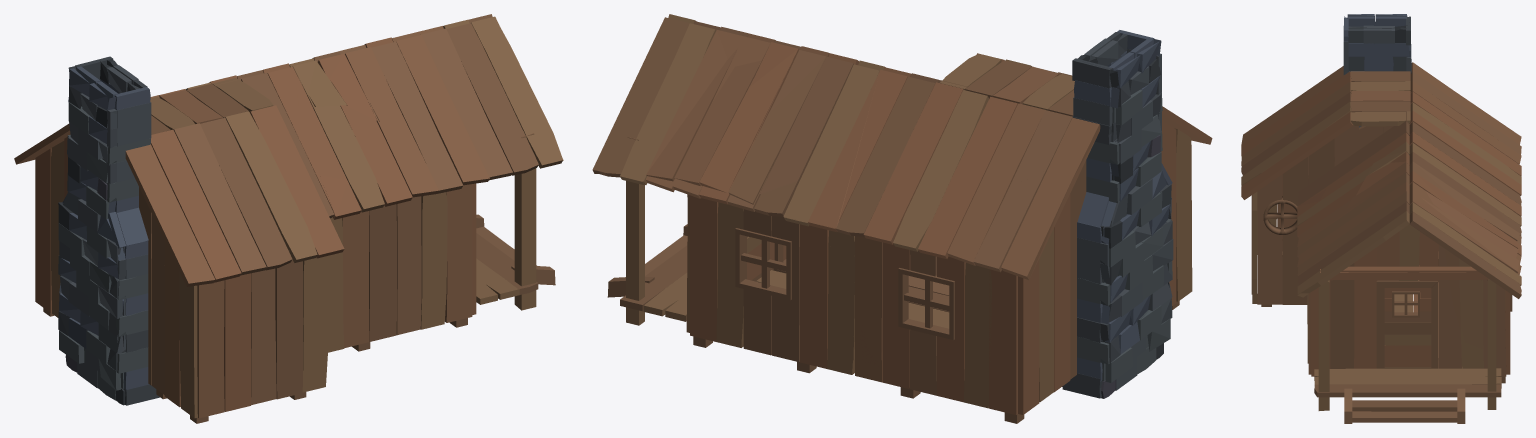
Rendered from House2.gltf.
3 renders of one model, left to right at view 1: azimuth 30°, elevation 25°; view 2: azimuth 150°, elevation 25°; view 3: azimuth 270°, elevation 25°, orthographic. The views are drawn at different scales.
Visible parts, largest first — view 1: House2_Detail_Low, House2_Destruction.002, House2_Destruction.001, House2_Destruction.003, House2_Destruction.004; view 2: House2_Detail_Low, House2_Destruction.001, House2_Destruction.002, House2_Destruction.003, House2_Destruction.006; view 3: House2_Detail_Low, House2_Destruction.001, House2_Destruction.003, House2_Destruction.005, House2_Destruction.002.
Part boxes in pixels (bbox=[...]): House2_Detail_Low: bbox=[14, 14, 562, 423]; House2_Destruction.002: bbox=[58, 60, 139, 390]; House2_Destruction.001: bbox=[289, 48, 465, 287]; House2_Destruction.003: bbox=[16, 125, 248, 401]; House2_Destruction.004: bbox=[320, 175, 396, 327]; House2_Detail_Low: bbox=[593, 14, 1212, 423]; House2_Destruction.001: bbox=[646, 30, 889, 347]; House2_Destruction.002: bbox=[1077, 33, 1173, 382]; House2_Destruction.003: bbox=[960, 71, 1209, 401]; House2_Destruction.006: bbox=[828, 242, 882, 364]; House2_Detail_Low: bbox=[1241, 16, 1521, 423]; House2_Destruction.001: bbox=[1307, 141, 1521, 368]; House2_Destruction.003: bbox=[1241, 72, 1521, 255]; House2_Destruction.005: bbox=[1297, 202, 1521, 298]; House2_Destruction.002: bbox=[1343, 14, 1410, 28].
Bounding box in the file's own units: 8.79 × 5.76 × 5.99.
